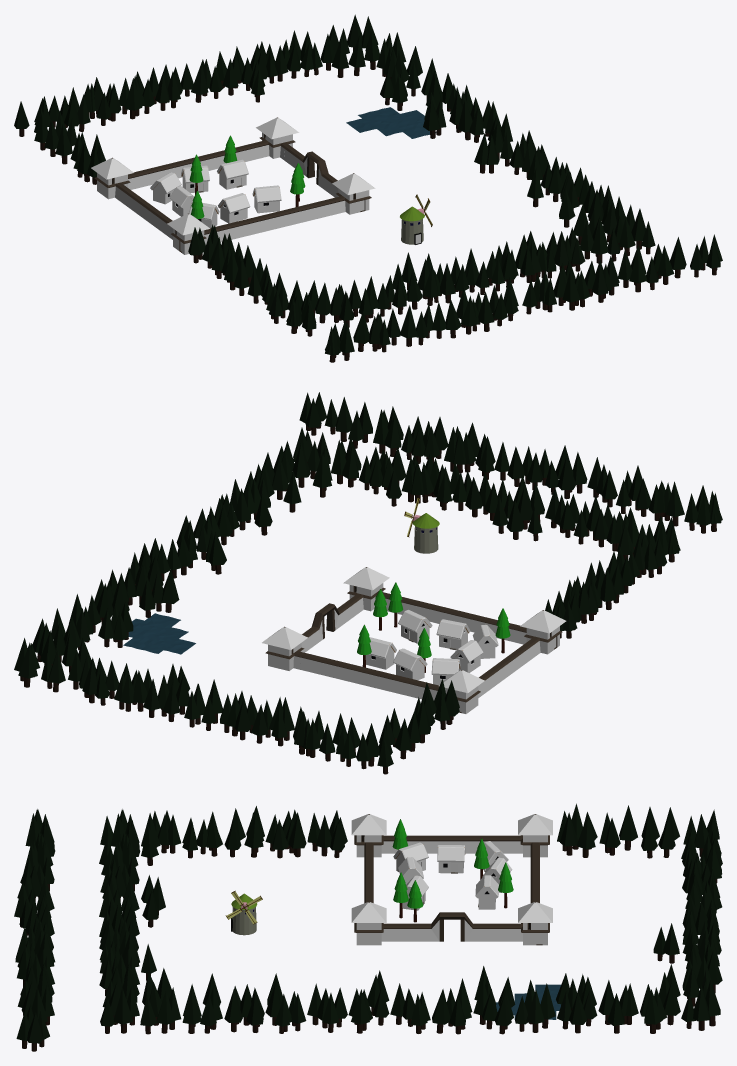
Rendered from town_rest.mtl.obj.
The picture shows the model from 3 angles, top to bottom: view 1: azimuth 30°, elevation 25°; view 2: azimuth 150°, elevation 25°; view 3: azimuth 270°, elevation 25°; orthographic projection. The views are drawn at different scales.
Parts seen in each view (by area): view 1: Lake_ripples, CornerFort.001, CornerFort.003, CornerFort.002, CornerFort.004, Cube.053, Cube.051, WindmillBody, Cube.054, Cube.048, Cube.016, Cube.017 (+2 smaller); view 2: Lake_ripples, CornerFort.002, CornerFort.004, CornerFort.001, CornerFort.003, WindmillBody, Cube.051, Cube.049, Cube.053, Cube.054, Cube.002, Cube.003 (+3 smaller); view 3: CornerFort.001, CornerFort.002, CornerFort.004, CornerFort.003, Cube.038, Cube.035, Cube.033, Cube.050, WindmillBody, Cube.053, Lake_ripples, Cube.052 (+18 smaller).
Part boxes in pixels (x1,y1,x2,y2): Lake_ripples: [346, 107, 436, 138]; CornerFort.001: [332, 173, 375, 214]; CornerFort.003: [91, 157, 133, 199]; CornerFort.002: [256, 117, 298, 158]; CornerFort.004: [167, 213, 210, 254]; Cube.053: [217, 159, 248, 189]; Cube.051: [218, 193, 250, 223]; WindmillBody: [400, 206, 424, 244]; Cube.054: [252, 185, 281, 213]; Cube.048: [150, 172, 181, 204]; Cube.016: [270, 205, 306, 229]; Cube.017: [303, 197, 339, 221]; Lake_ripples: [123, 613, 195, 654]; CornerFort.002: [262, 626, 307, 670]; CornerFort.004: [520, 610, 566, 654]; CornerFort.001: [343, 567, 389, 611]; CornerFort.003: [439, 670, 484, 713]; WindmillBody: [412, 513, 439, 553]; Cube.051: [436, 619, 470, 650]; Cube.049: [393, 648, 427, 680]; Cube.053: [365, 637, 396, 669]; Cube.054: [398, 609, 432, 643]; Cube.002: [371, 670, 409, 695]; Cube.003: [335, 661, 374, 686]; CornerFort.001: [351, 902, 386, 945]; CornerFort.002: [518, 902, 552, 945]; CornerFort.004: [351, 814, 386, 857]; CornerFort.003: [518, 814, 552, 857]; Cube.038: [431, 912, 472, 941]; Cube.035: [473, 923, 514, 941]; Cube.033: [390, 923, 431, 941]; Cube.050: [437, 845, 465, 873]; WindmillBody: [231, 893, 257, 935]; Cube.053: [475, 875, 498, 909]; Lake_ripples: [496, 984, 560, 1019]; Cube.052: [393, 842, 428, 871].
Size of the model in its own units: 120 by 15.21 by 171.
